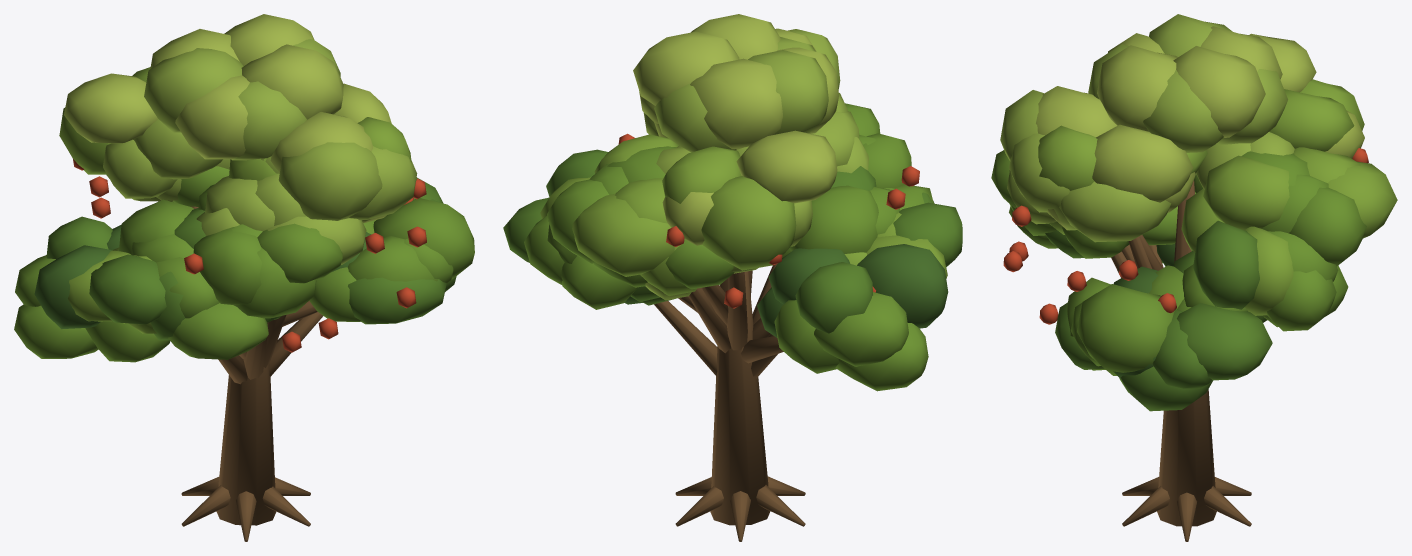
Rendered from foliage_apple_0.glb.
The picture shows the model from 3 angles, left to right: view 1: azimuth 30°, elevation 25°; view 2: azimuth 150°, elevation 25°; view 3: azimuth 270°, elevation 25°; orthographic projection.
Visible parts, largest first — view 1: Trunk; view 2: Trunk; view 3: Trunk.
Part boxes in pixels (left/top/right/bottom): Trunk: left=14, top=14, right=474, bottom=541; Trunk: left=503, top=14, right=962, bottom=541; Trunk: left=991, top=14, right=1397, bottom=541.
Size of the model in its own units: 4.73 by 5.13 by 3.97.
